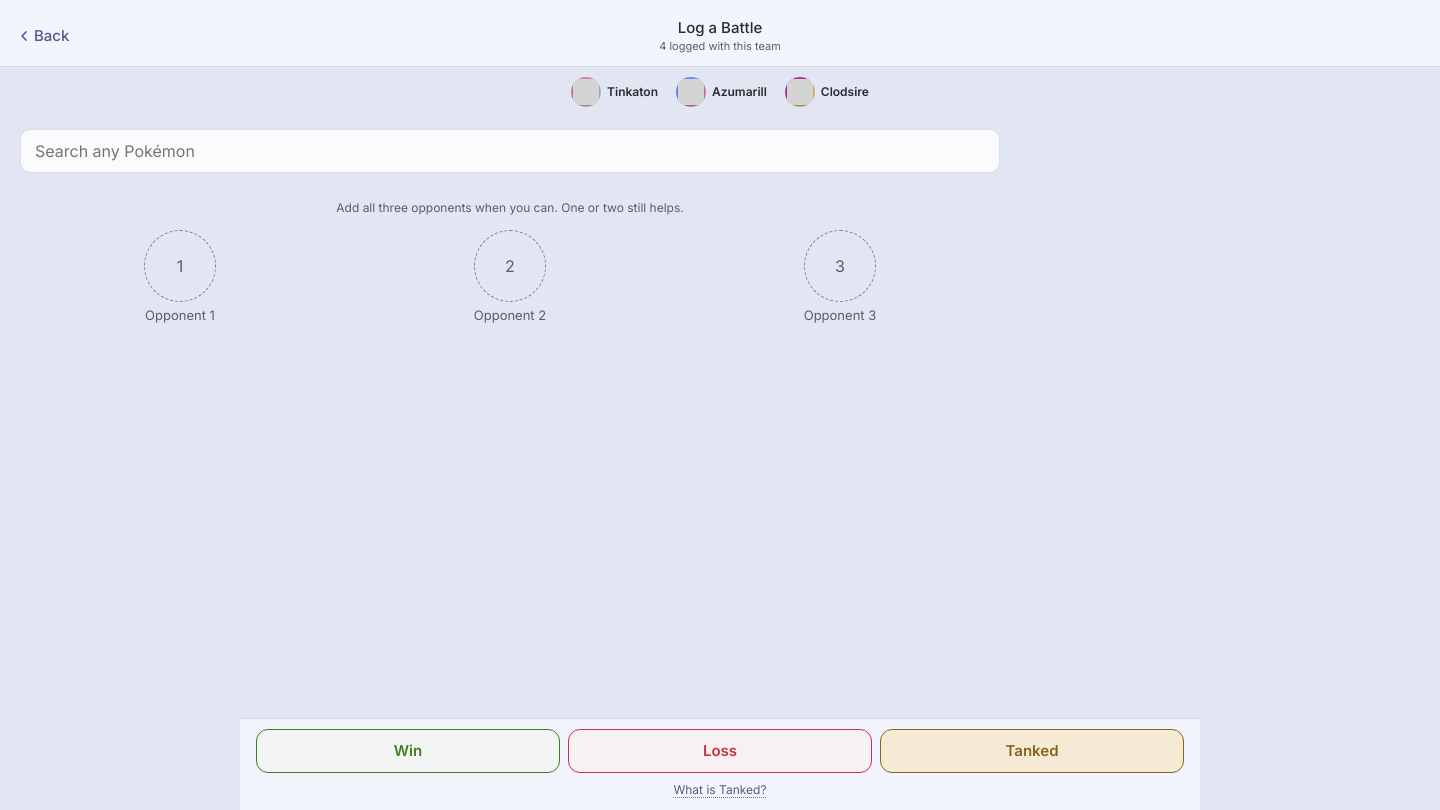
Test: Log a battle › never closes a set: the fifth battle logs like any other
The width and height of the screenshot is (1440, 810).
Check: the text "4 logged with this team" is shown, box [659, 39, 781, 55]
Click the button "Tanked" at (1032, 751), box [880, 729, 1184, 773]
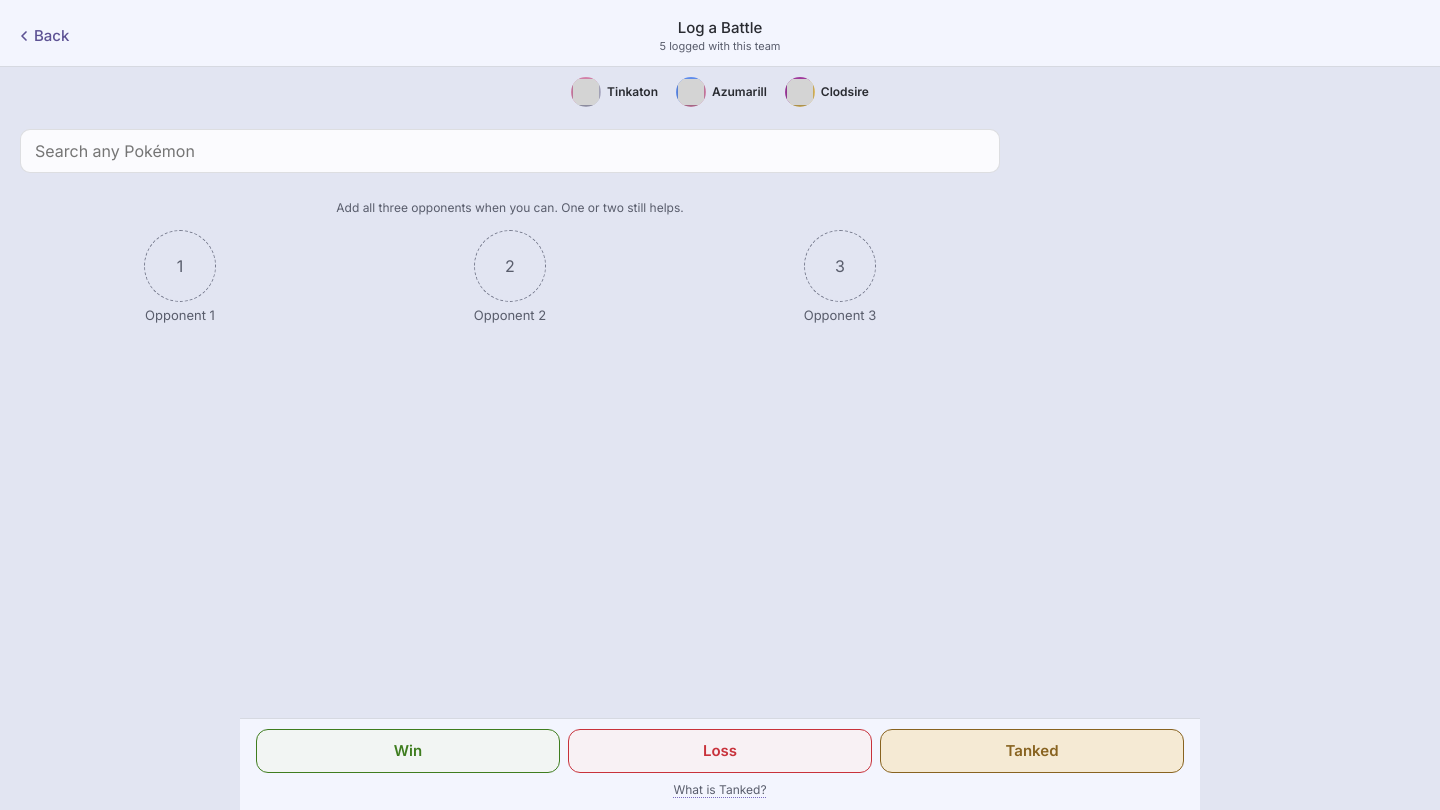
Check: the text "5 logged with this team" is shown, box [660, 39, 780, 55]
